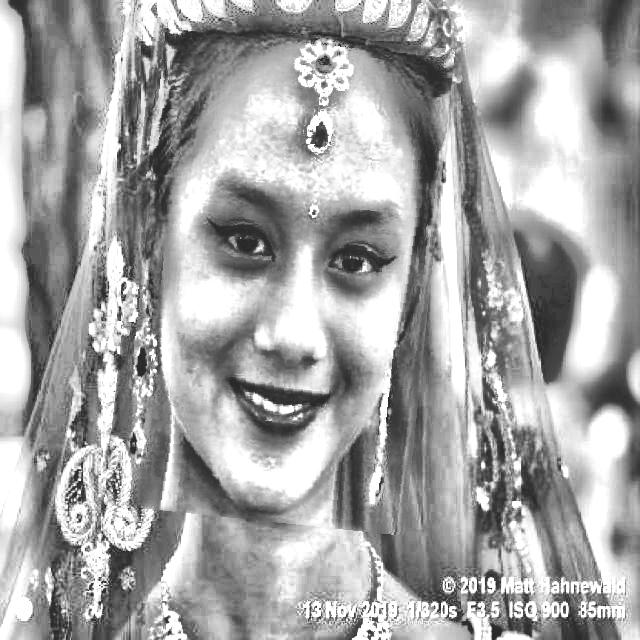happy: (117, 25, 443, 528)
